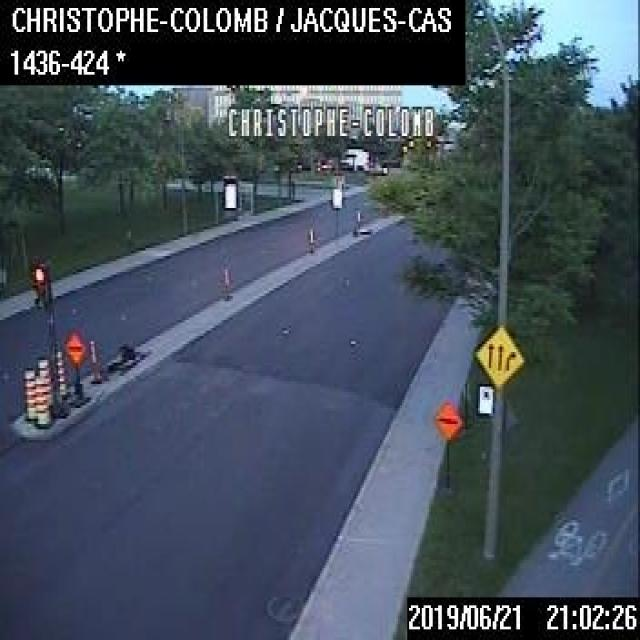construction: (432, 397, 462, 494), (64, 330, 87, 402), (36, 354, 55, 417), (33, 370, 51, 428), (23, 363, 35, 420), (55, 347, 68, 397)
vehicle: (339, 146, 367, 170), (320, 156, 335, 168)
